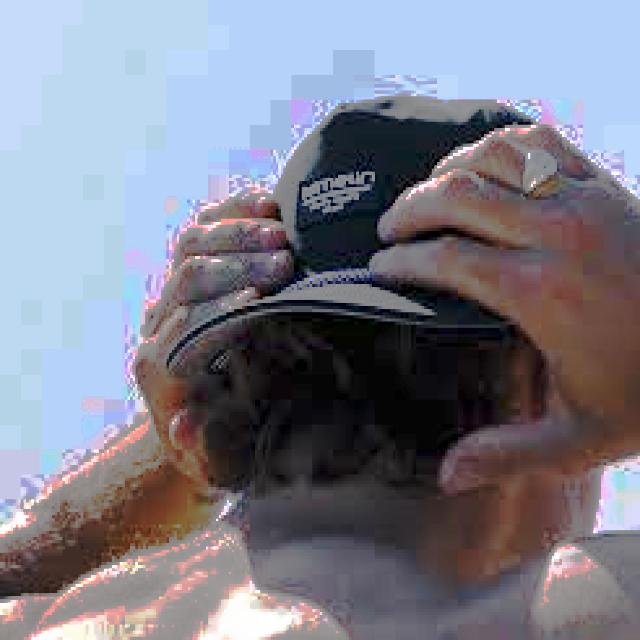TOPI: (158, 85, 570, 372)
